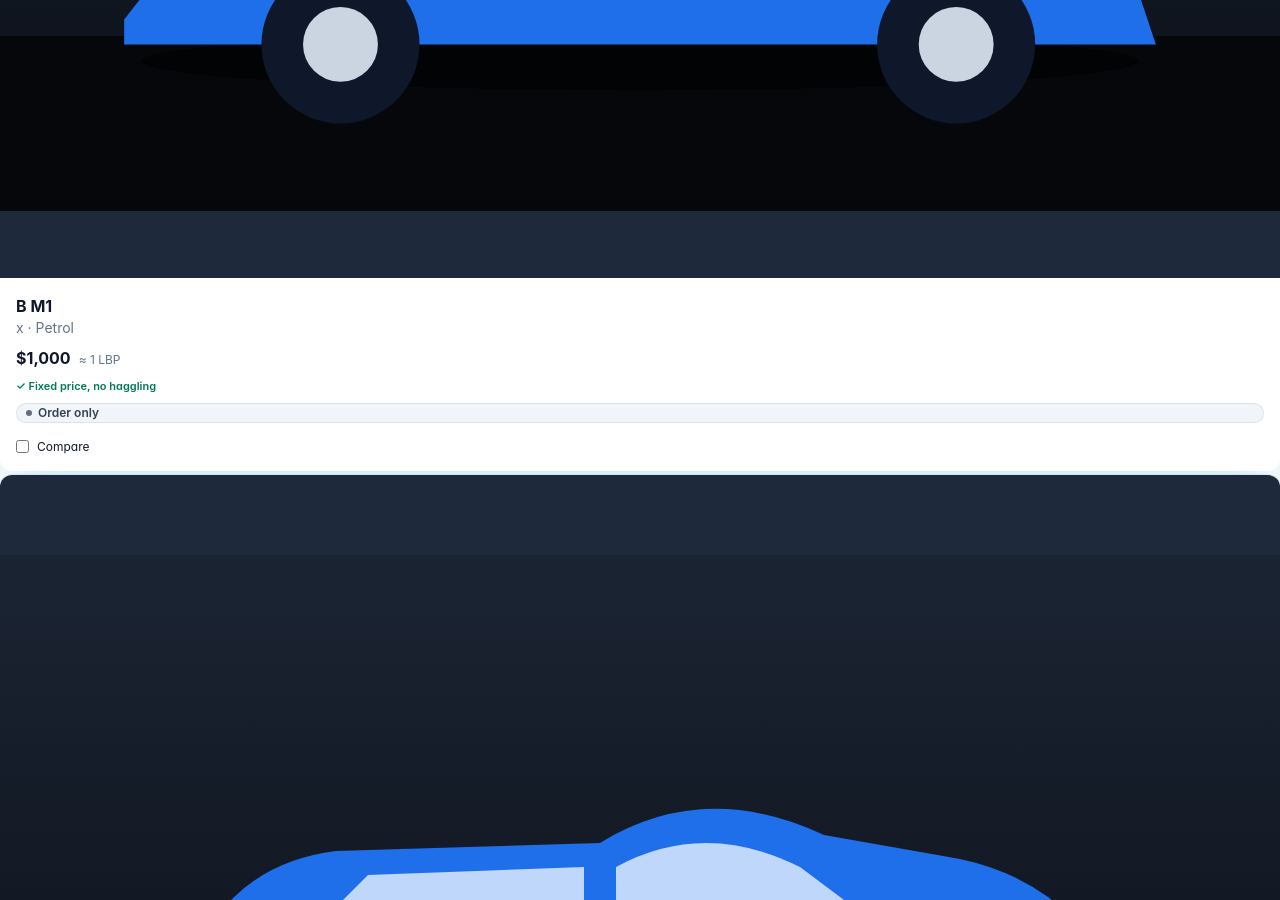
FR-CAT-05 compare selection › allows at most three cars and disables the fourth checkbox
(page scrolled)
Click the checkbox: click(22, 446) 16,440 -> 29,453
(page scrolled)
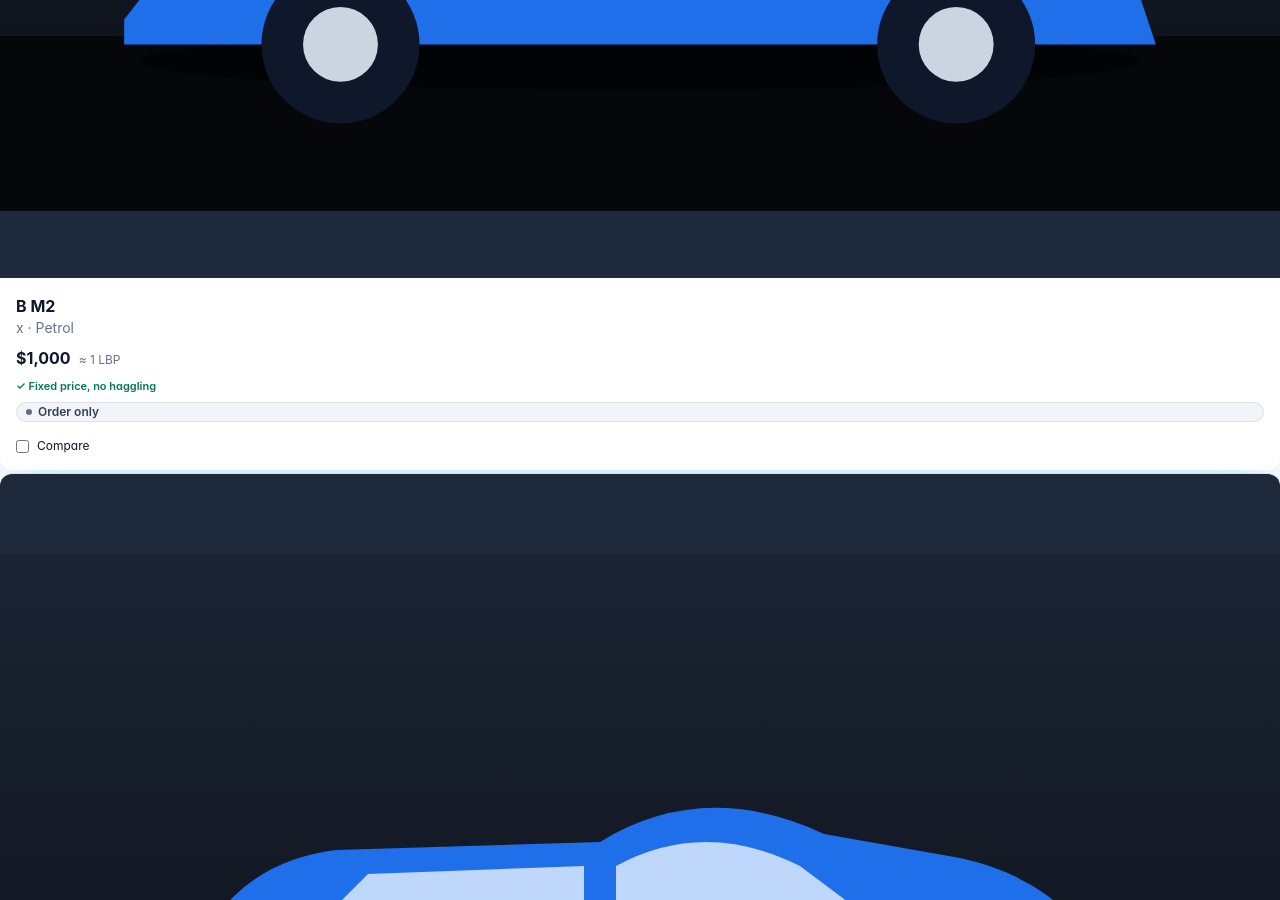
Click the checkbox: click(22, 446) 16,440 -> 29,452
(page scrolled)
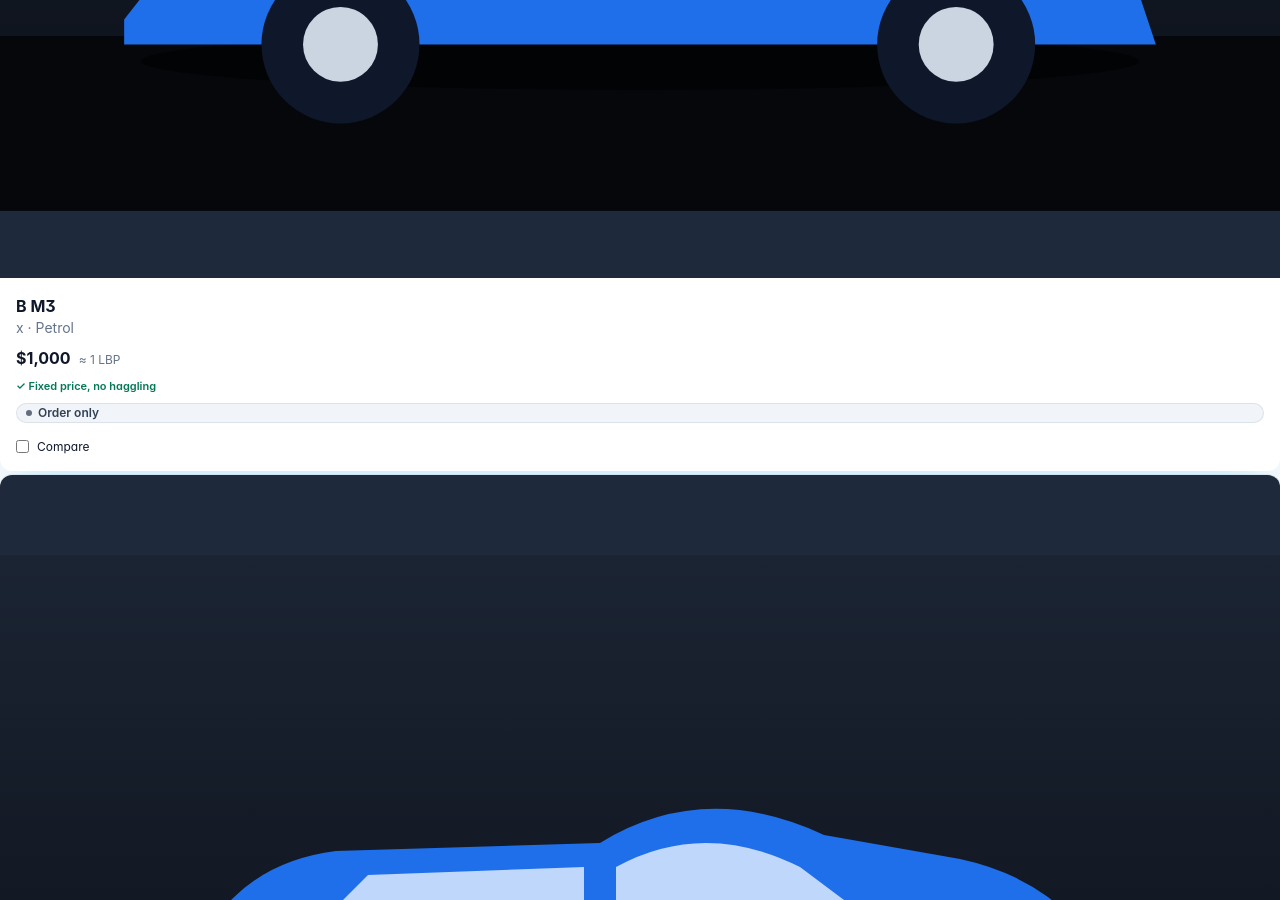
Click the checkbox: click(22, 446) 16,440 -> 29,453
(page scrolled)
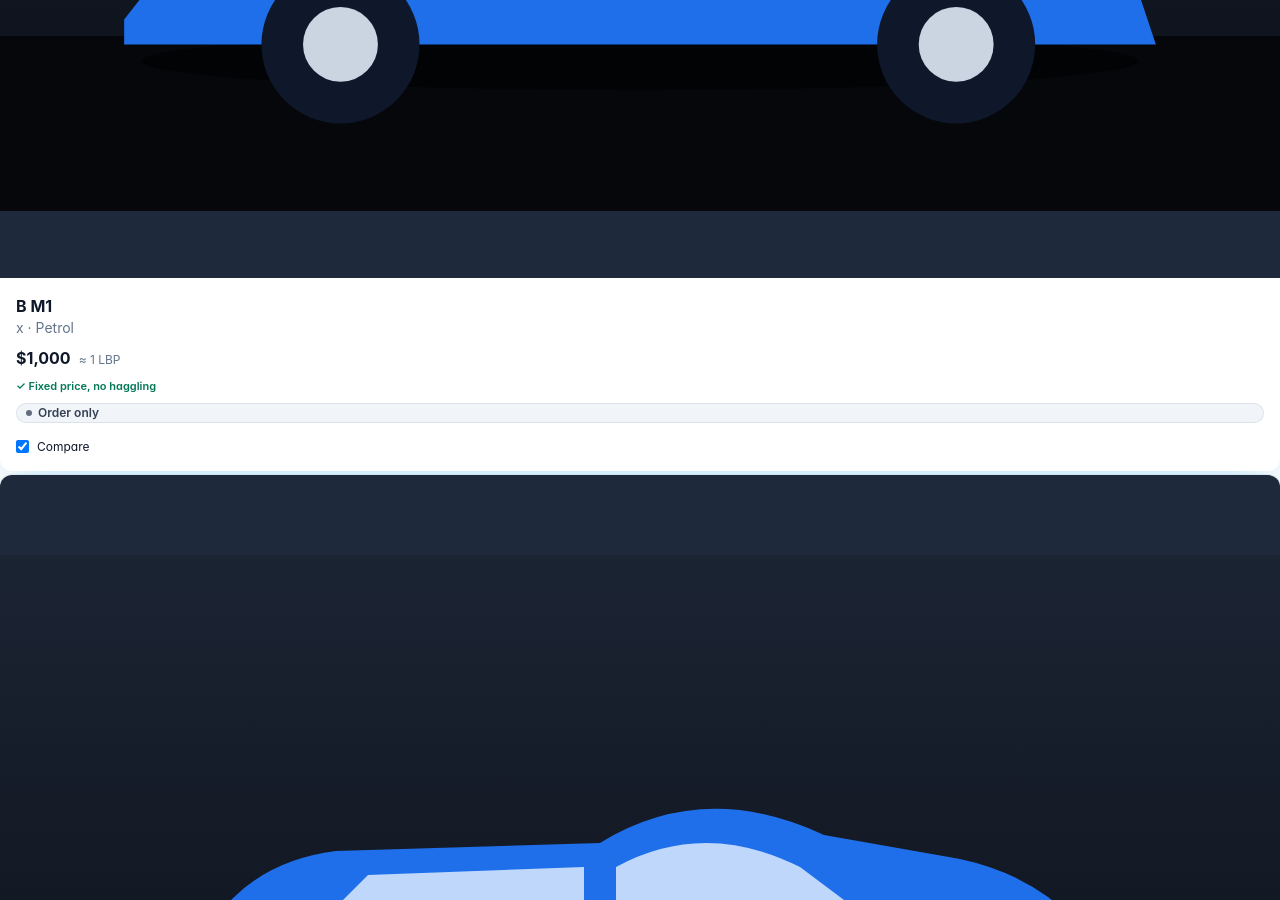
Click the checkbox: click(22, 446) 16,440 -> 29,453
(page scrolled)
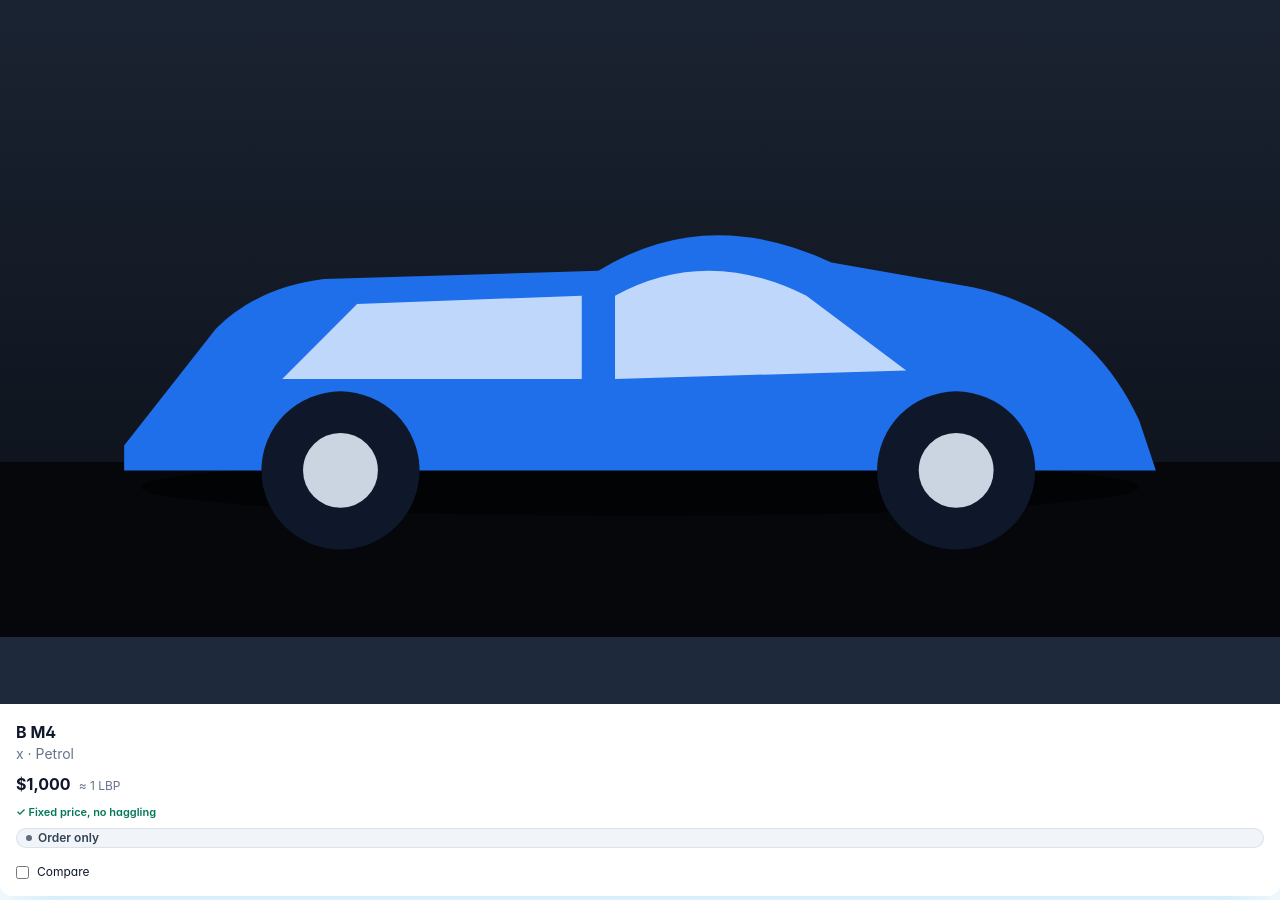
Result: the checkbox is enabled at 16,866 -> 29,878
